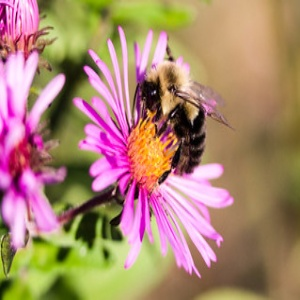bee: (131, 59, 234, 190)
